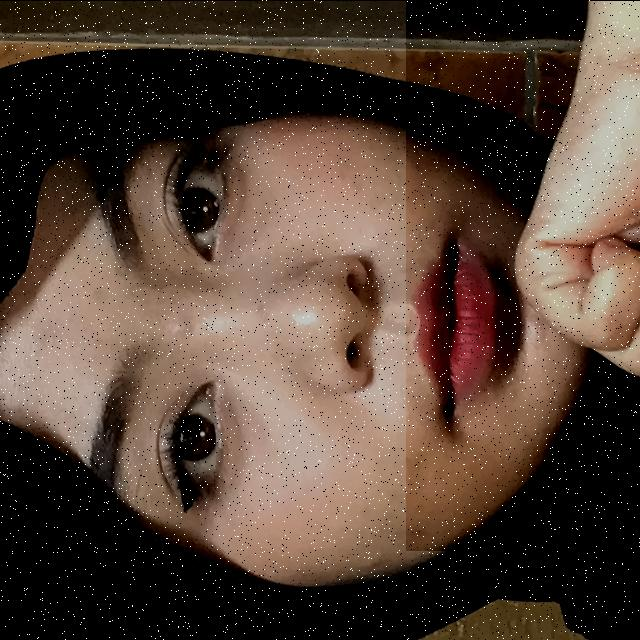sedih: (406, 0, 640, 550)
